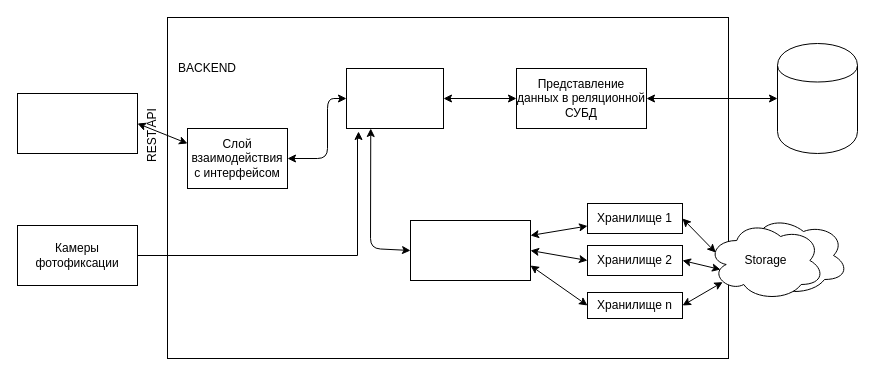
This 875x376 diagram has some shape labels left out. The shapes that lost their labels are listed below. From the top down, each one's centre as x and y in pixels, then its label:
At [395,98]: "Функциональные модули".
At [817,98]: "Реляционная база данных".
At [77,123]: "Система АСГП".
At [470,250]: "Хранение файловых данных".
